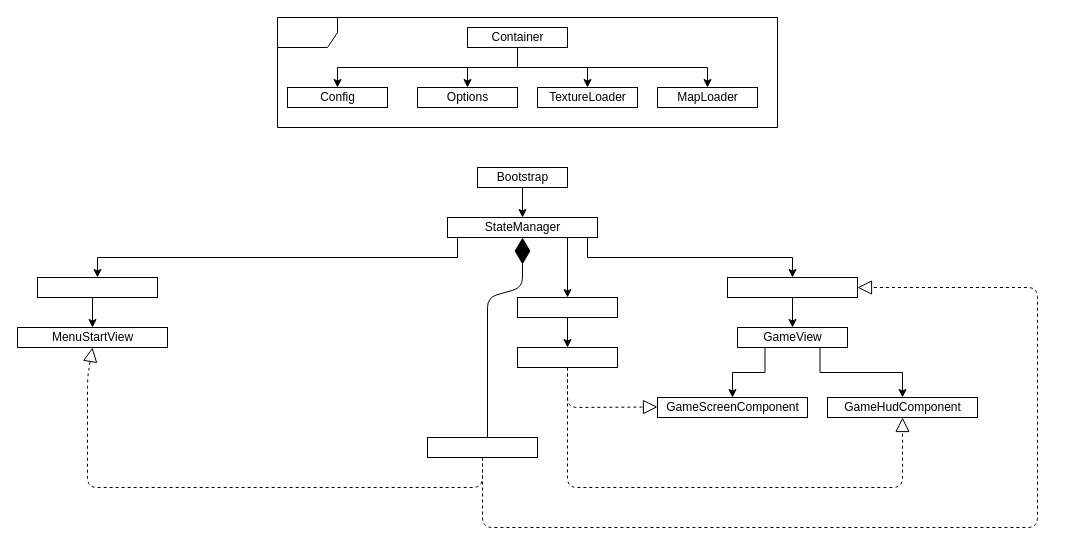
This 1069x559 diagram has some shape labels left out. The centre of each missing label's shape, as x and y in pixels:
"Engine" belongs at (x=567, y=307).
"EngineRender" belongs at (x=567, y=357).
"GameWindow" belongs at (x=482, y=447).
"MenuState" belongs at (x=97, y=287).
"RunningGameState" belongs at (x=792, y=287).
"singleton" belongs at (x=527, y=72).
